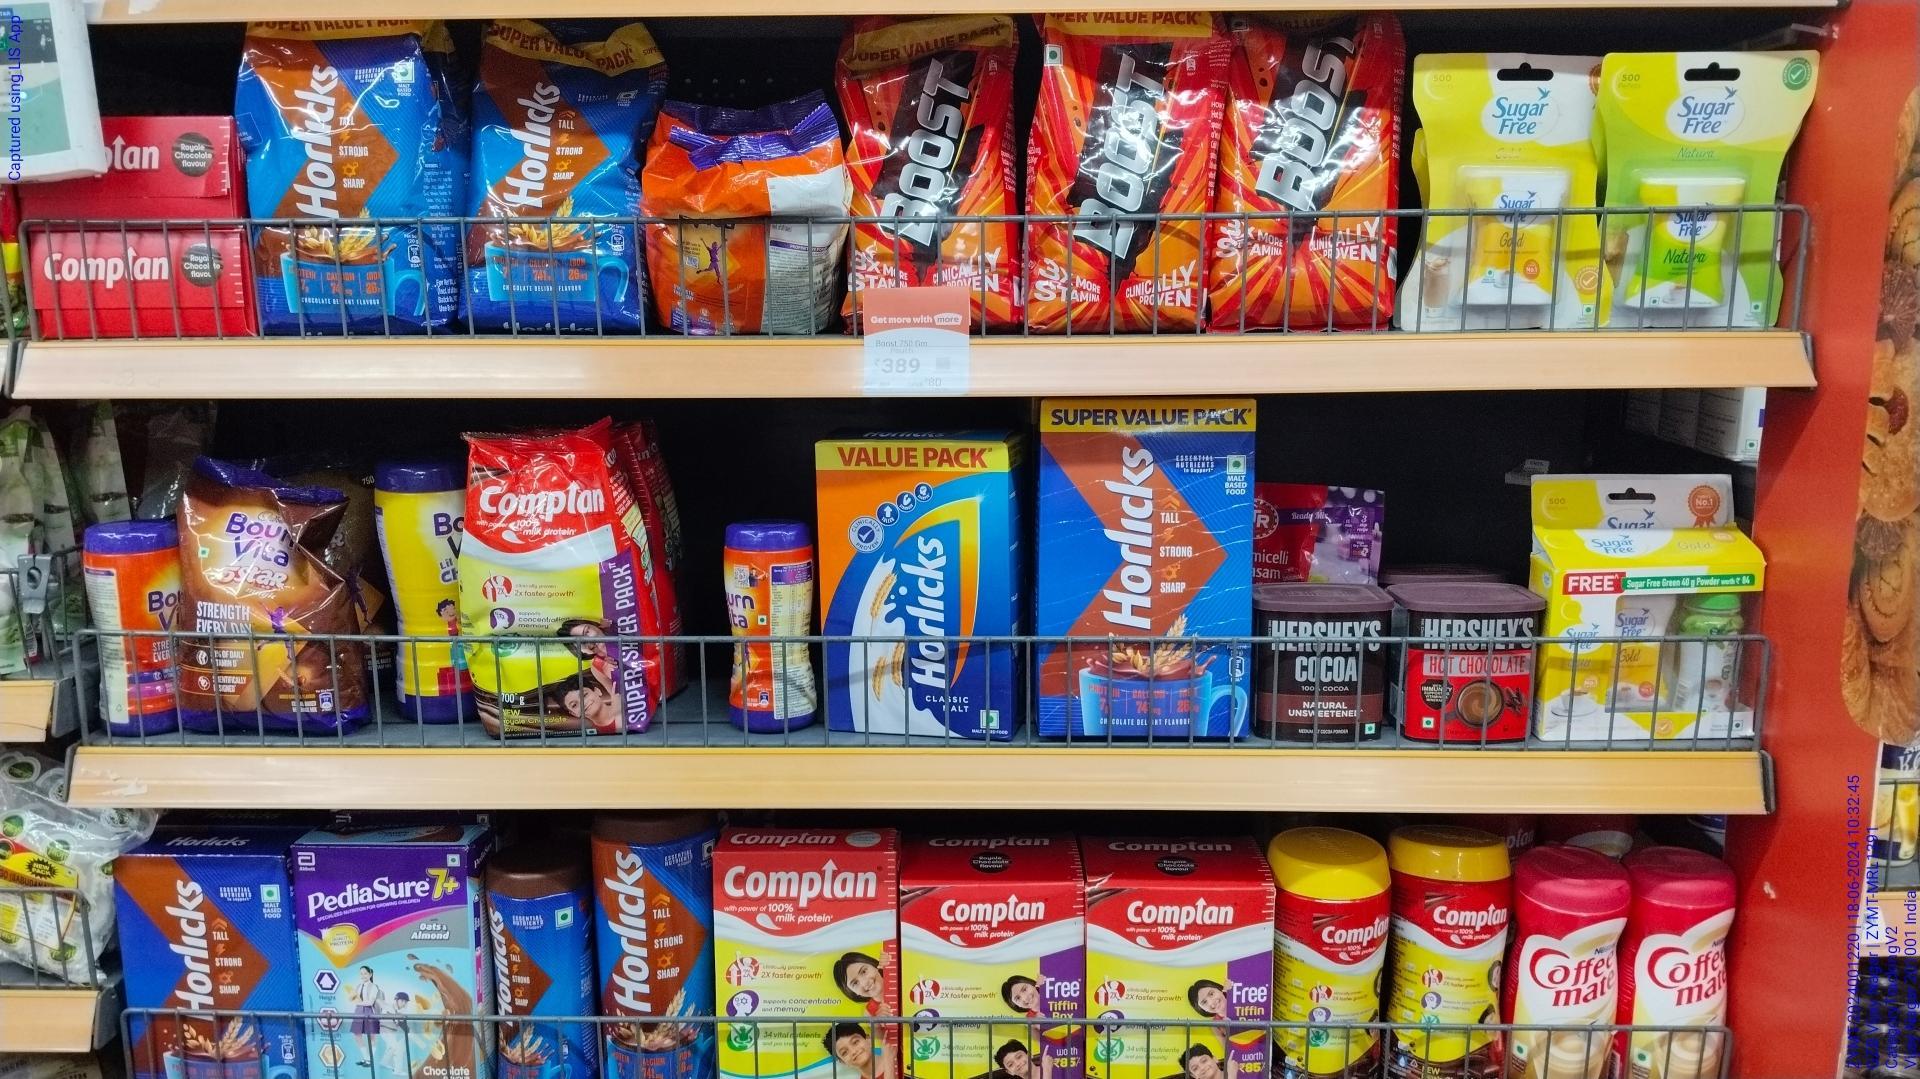BOURN_VITA_FIVE_STAR_MAGIC_750_G_POUCH: (171, 456, 363, 728)
COMPLAN_CHOCOLATE_500_GMS_JAR: (1276, 830, 1390, 1079), (1398, 826, 1505, 1079)
COMPLAN_CHOCOLATE_500_GMS_PACK: (906, 882, 1085, 1079), (1091, 885, 1270, 1079)
COMPLAN_CREAMY_CLASSIC_500_G_PACK: (716, 847, 899, 1079)
COMPLAN_RC_POUCH_700_GMS_12: (464, 423, 646, 732)
HORLICK_CHOCOLATE_1_KG_JAR: (597, 815, 711, 1079)
HORLICK_CHOCOLATE_1_KG_PACK: (1044, 400, 1249, 737)
HORLICK_CHOCOLATE_500_G_JAR: (493, 844, 593, 1079)
HORLICK_CHOCOLATE_500_G_PACK: (119, 853, 299, 1079)
HORLICK_CHOCOLATE_750_G_POUCH: (256, 20, 446, 327), (459, 17, 638, 328)
PEDIASURE_7_PLUS_CHOCOLATE_400_G_PACK: (307, 849, 476, 1079)
